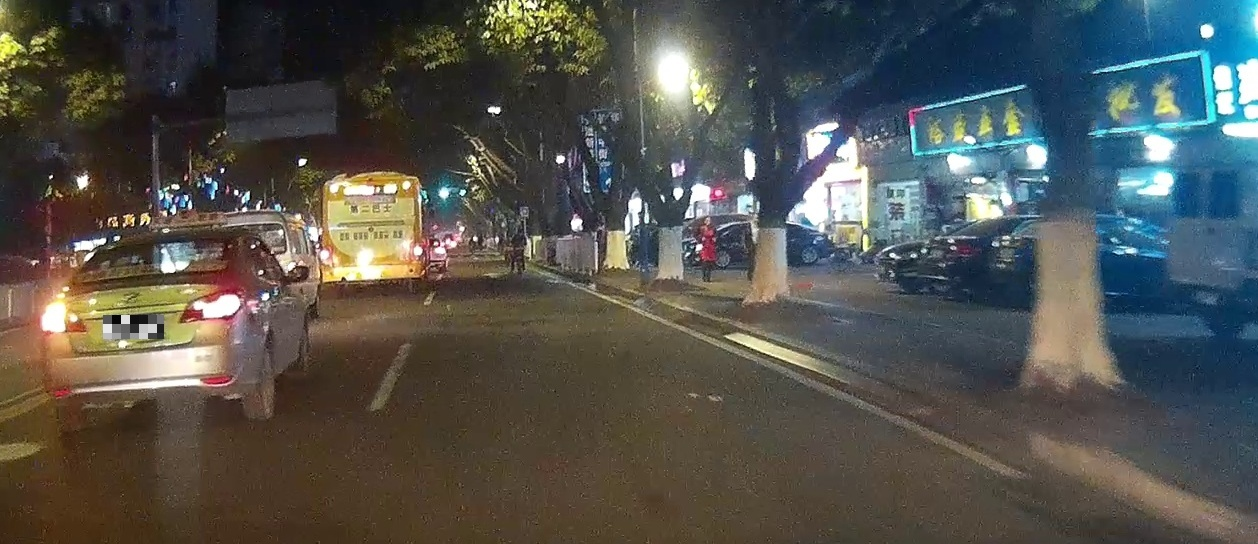L_light: (40, 301, 87, 333), (320, 245, 332, 265)
R_light: (177, 288, 242, 323), (411, 241, 422, 261)
T_light: (147, 243, 175, 251), (363, 180, 380, 186)
night-left: (40, 225, 243, 431)
night-no: (320, 172, 423, 293)
plate_1: (103, 315, 164, 339)
